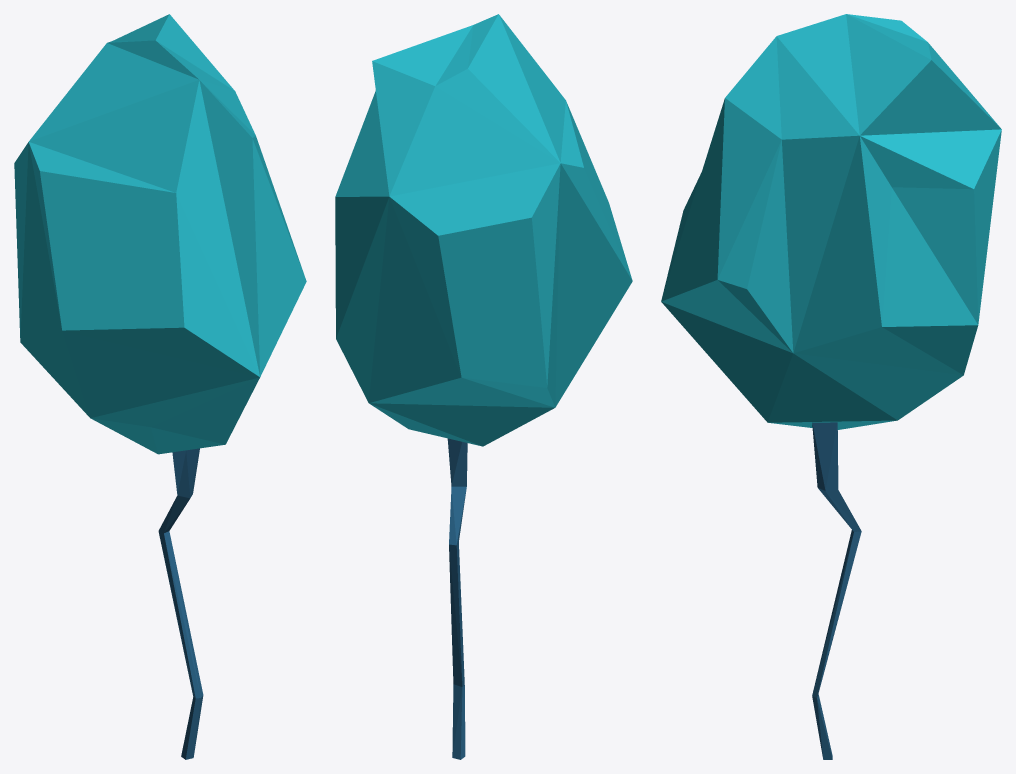
The model's file is world_3_tree_1.dae.
The picture shows the model from 3 angles, left to right: view 1: azimuth 30°, elevation 25°; view 2: azimuth 150°, elevation 25°; view 3: azimuth 270°, elevation 25°; orthographic projection. The views are drawn at different scales.
Parts seen in each view (by area): view 1: world_3_tree_1_leaves, world_3_tree_1_base; view 2: world_3_tree_1_leaves, world_3_tree_1_base; view 3: world_3_tree_1_leaves, world_3_tree_1_base.
Part boxes in pixels (x1,y1,x2,y2): world_3_tree_1_leaves: (14,14,306,454); world_3_tree_1_base: (158,448,203,759); world_3_tree_1_leaves: (335,14,632,446); world_3_tree_1_base: (447,438,467,759); world_3_tree_1_leaves: (661,14,1001,429); world_3_tree_1_base: (812,422,861,759).
Bounding box in the file's own units: 1.13 × 1.38 × 3.27.
